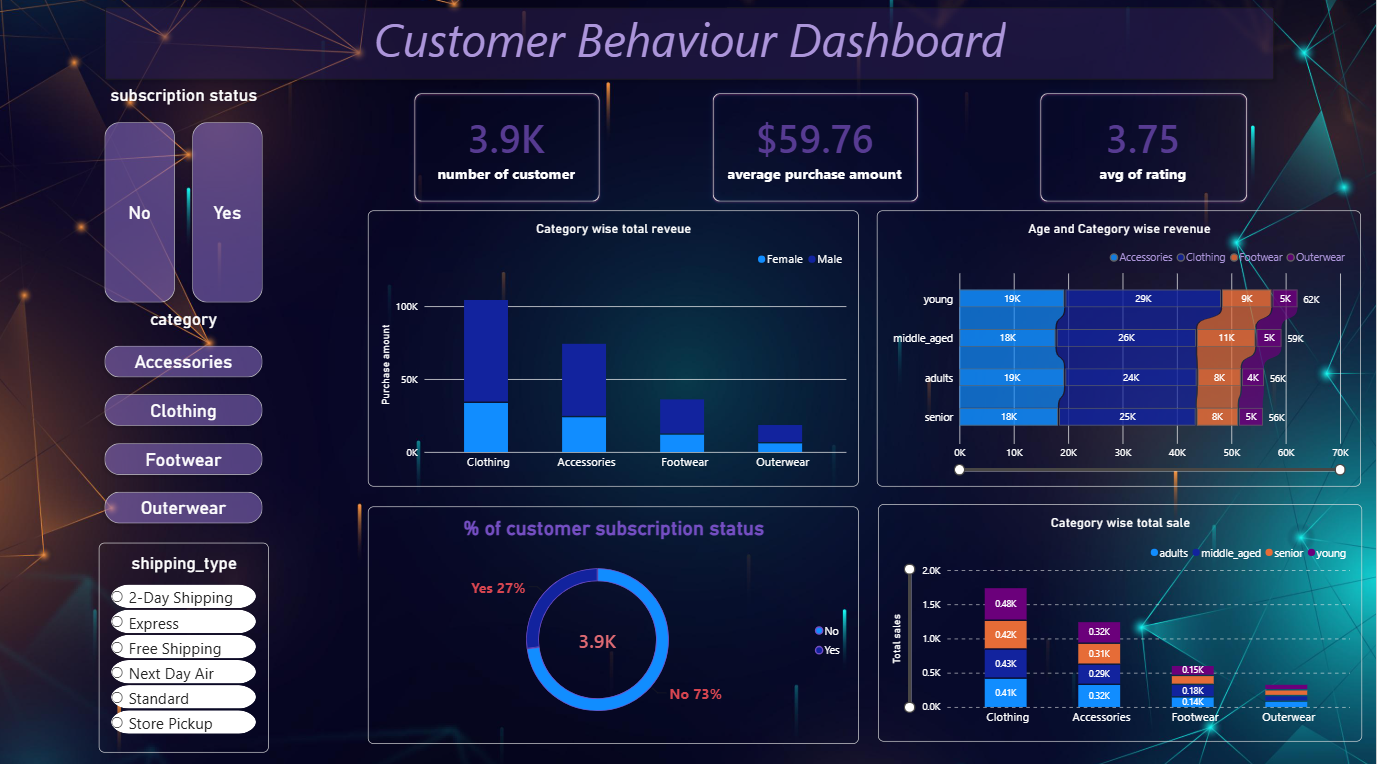

This screenshot's page, from the dashboard's own definition file:
{"tool":"powerbi","page":{"name":"Page 1","canvas":[1920,1080],"ordinal":0},"visuals":[{"type":"cardVisual","fields":{"Data":["customer_behaviour customer_analysis.number of customer"]},"box":[570.8,127.5,280.8,173.7],"z":0},{"type":"cardVisual","fields":{"Data":["customer_behaviour customer_analysis.average purchase amount"]},"box":[986.5,127.5,308.5,173.7],"z":1000},{"type":"cardVisual","fields":{"Data":["customer_behaviour customer_analysis.avg of rating"]},"box":[1442.8,127.5,310.4,173.7],"z":2000},{"type":"shape","box":[142.2,9.2,1646,118.2],"z":3000},{"type":"donutChart","title":"% of customer subscription status","fields":{"Category":["customer_behaviour customer_analysis.subscription_status"],"Y":["CountNonNull(customer_behaviour customer_analysis.customer_id)"]},"box":[517.3,713.1,683.5,330.7],"z":4000},{"type":"columnChart","title":"Category wise total reveue","fields":{"Category":["customer_behaviour customer_analysis.category"],"Series":["customer_behaviour customer_analysis.gender"],"Y":["Sum(customer_behaviour customer_analysis.purchase_amount)"]},"box":[517.3,301.1,683.5,384.2],"z":5000},{"type":"barChart","title":"Age and Category wise revenue","fields":{"Category":["customer_behaviour customer_analysis.age_category"],"Series":["customer_behaviour customer_analysis.category"],"Y":["Sum(customer_behaviour customer_analysis.purchase_amount)"]},"box":[1224.8,301.1,674.3,384.2],"z":6000},{"type":"columnChart","title":"Category wise total sale","fields":{"Category":["customer_behaviour customer_analysis.category"],"Series":["customer_behaviour customer_analysis.age_category"],"Y":["CountNonNull(customer_behaviour customer_analysis.customer_id)"]},"box":[1226.6,711.2,674.3,330.7],"z":7000},{"type":"advancedSlicerVisual","fields":{"Values":["customer_behaviour customer_analysis.subscription_status"]},"box":[142.2,127.5,236.5,310.4],"z":8000},{"type":"listSlicer","fields":{"Values":["customer_behaviour customer_analysis.shipping_type"]},"box":[142.2,764.8,236.5,291.9],"z":9000},{"type":"advancedSlicerVisual","fields":{"Values":["customer_behaviour customer_analysis.category"]},"box":[142.2,437.8,236.5,310.4],"z":9001}]}

Visuals, with their boxes in screenshot pixels (x1, y1, x2, y2), scaled from the page's 1920x1080 canvas onto the 1377x764 screenshot:
cardVisual - customer_behaviour customer_analysis.number of customer: <region>409, 90, 611, 213</region>
cardVisual - customer_behaviour customer_analysis.average purchase amount: <region>708, 90, 929, 213</region>
cardVisual - customer_behaviour customer_analysis.avg of rating: <region>1035, 90, 1257, 213</region>
shape: <region>102, 7, 1282, 90</region>
"% of customer subscription status" donutChart: <region>371, 504, 861, 738</region>
"Category wise total reveue" columnChart: <region>371, 213, 861, 485</region>
"Age and Category wise revenue" barChart: <region>878, 213, 1362, 485</region>
"Category wise total sale" columnChart: <region>880, 503, 1363, 737</region>
advancedSlicerVisual - customer_behaviour customer_analysis.subscription_status: <region>102, 90, 272, 310</region>
listSlicer - customer_behaviour customer_analysis.shipping_type: <region>102, 541, 272, 748</region>
advancedSlicerVisual - customer_behaviour customer_analysis.category: <region>102, 310, 272, 529</region>
